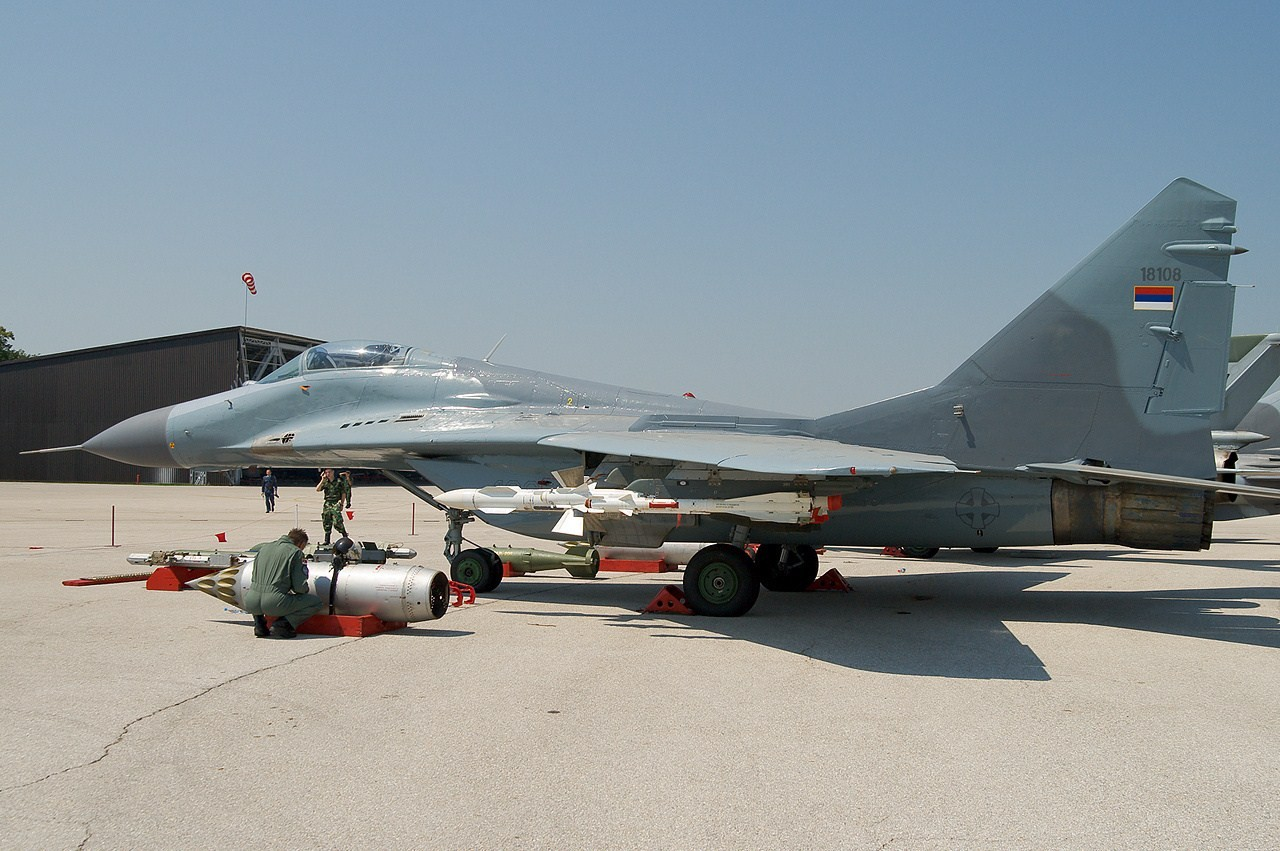Mig-29: (39, 154, 1261, 707)
